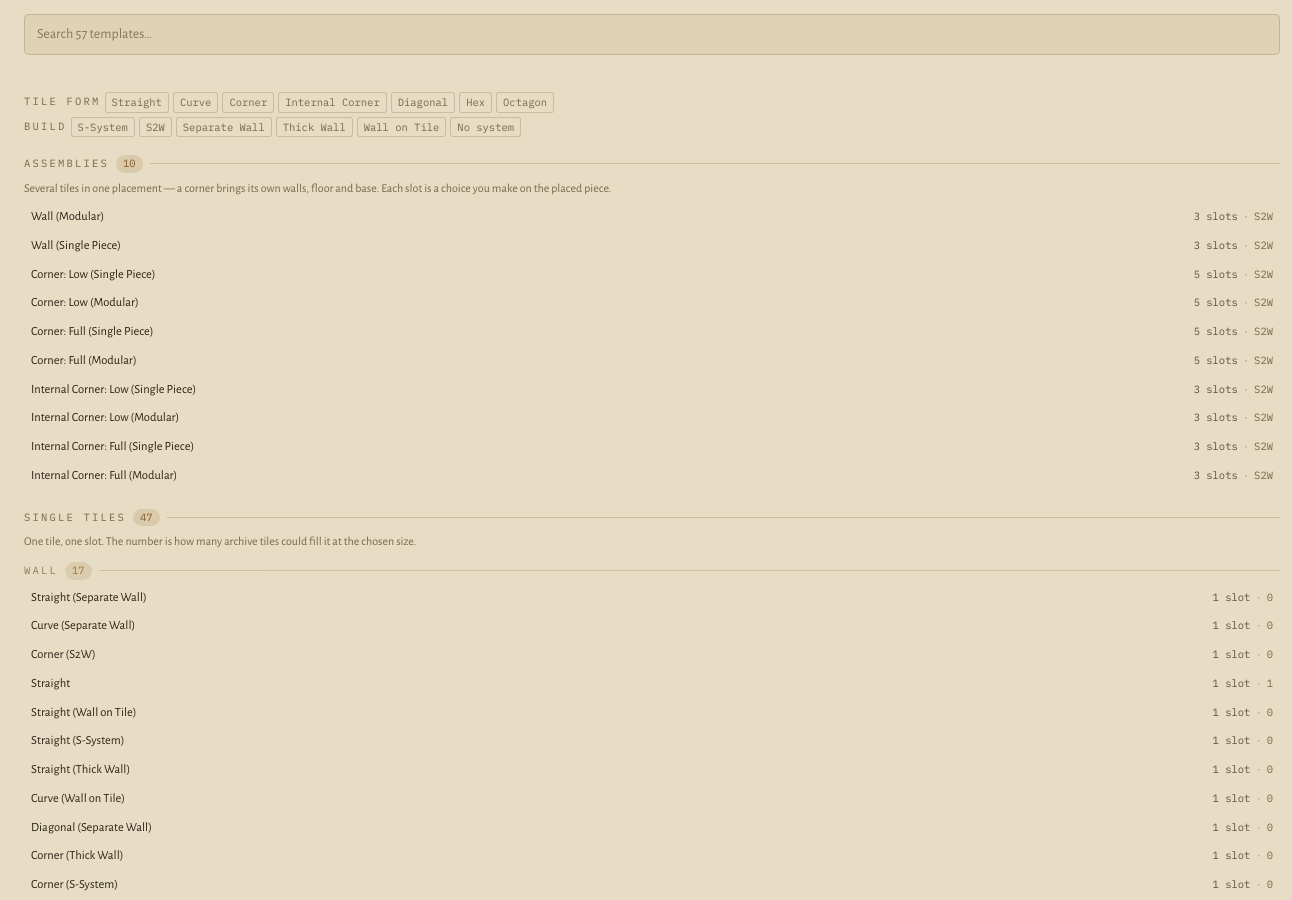
Test: the palette › arms a family, writes it to the tool state and drops the selection
The width and height of the screenshot is (1292, 900).
Click the button "Straight (Separate Wall) 1 slot 0".
click(89, 597)  # box [24,584,1280,610]
(page scrolled)
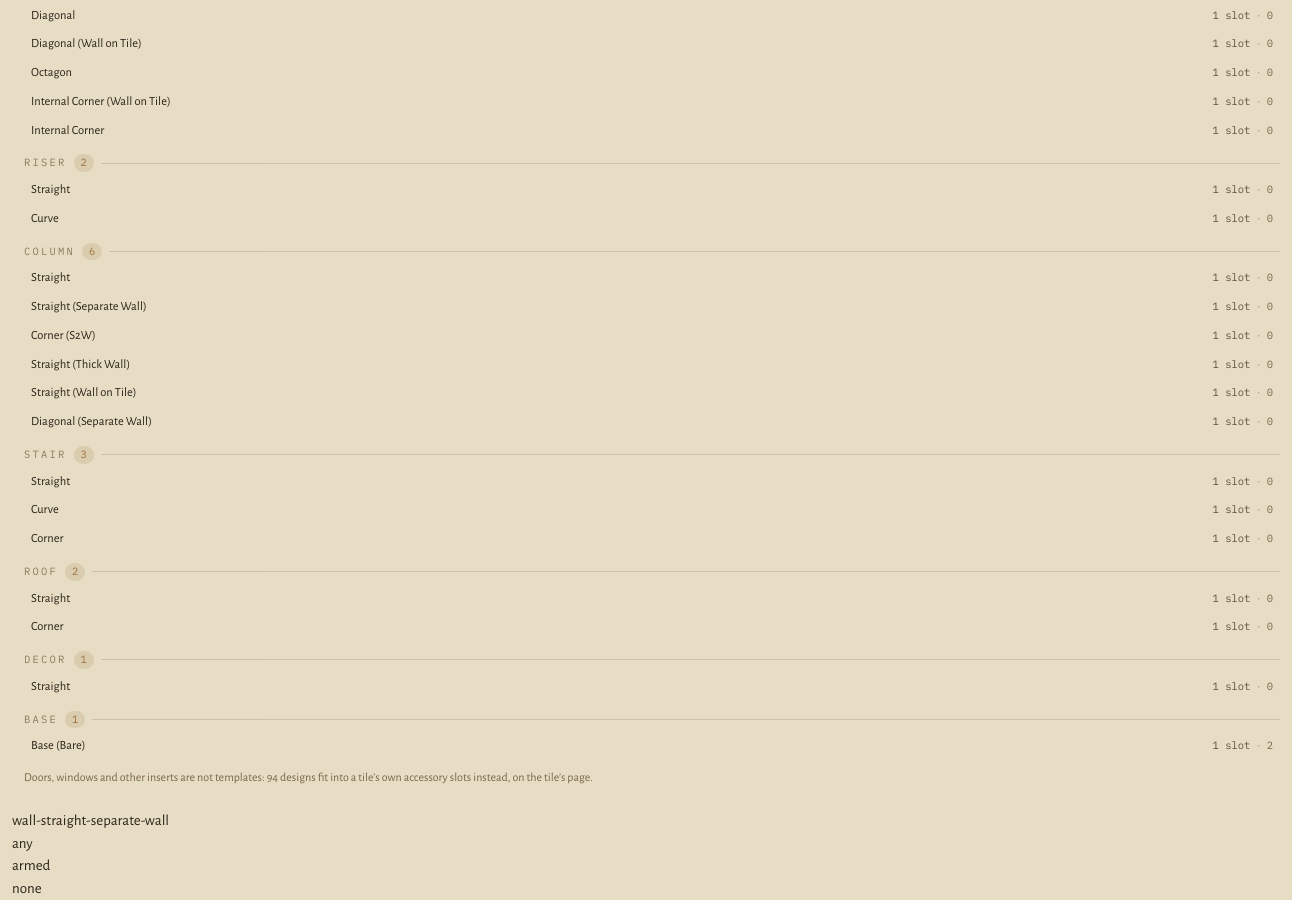
expect the text with test id "selected-template" reads "wall-straight-separate-wall": met, box [12,813,169,828]
expect the text with test id "activity" reads "armed": met, box [12,858,50,873]
expect the text with test id "selected-piece" reads "none": met, box [12,881,42,896]
